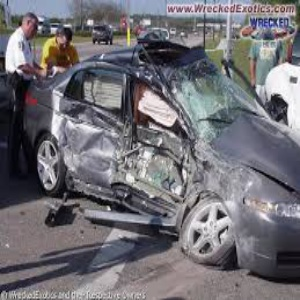door: (63, 124, 189, 212)
